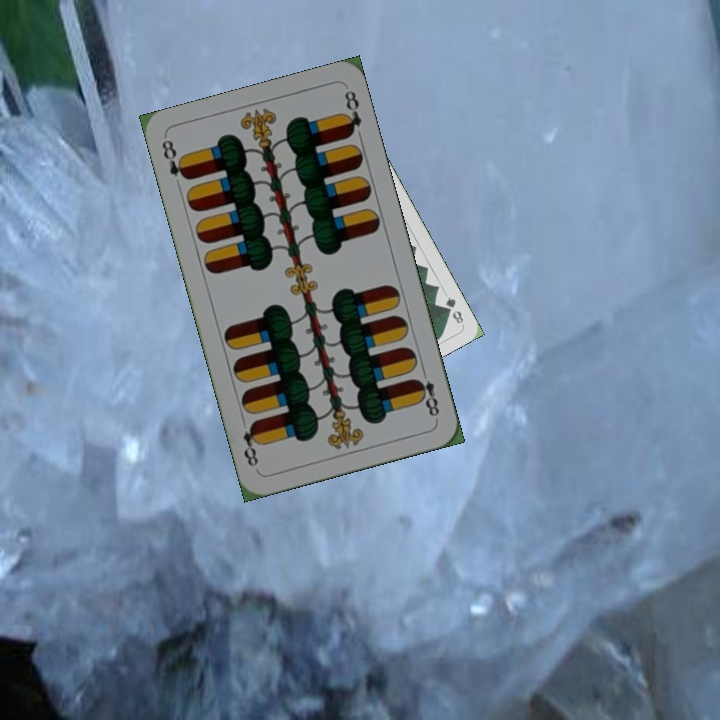E8: (411, 364, 442, 419), (158, 136, 191, 182)
G8: (441, 293, 466, 328)
